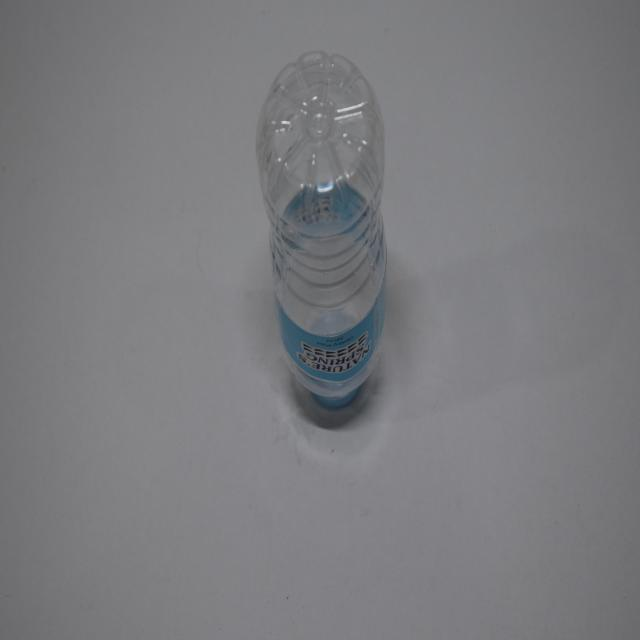empty: (256, 52, 386, 408)
